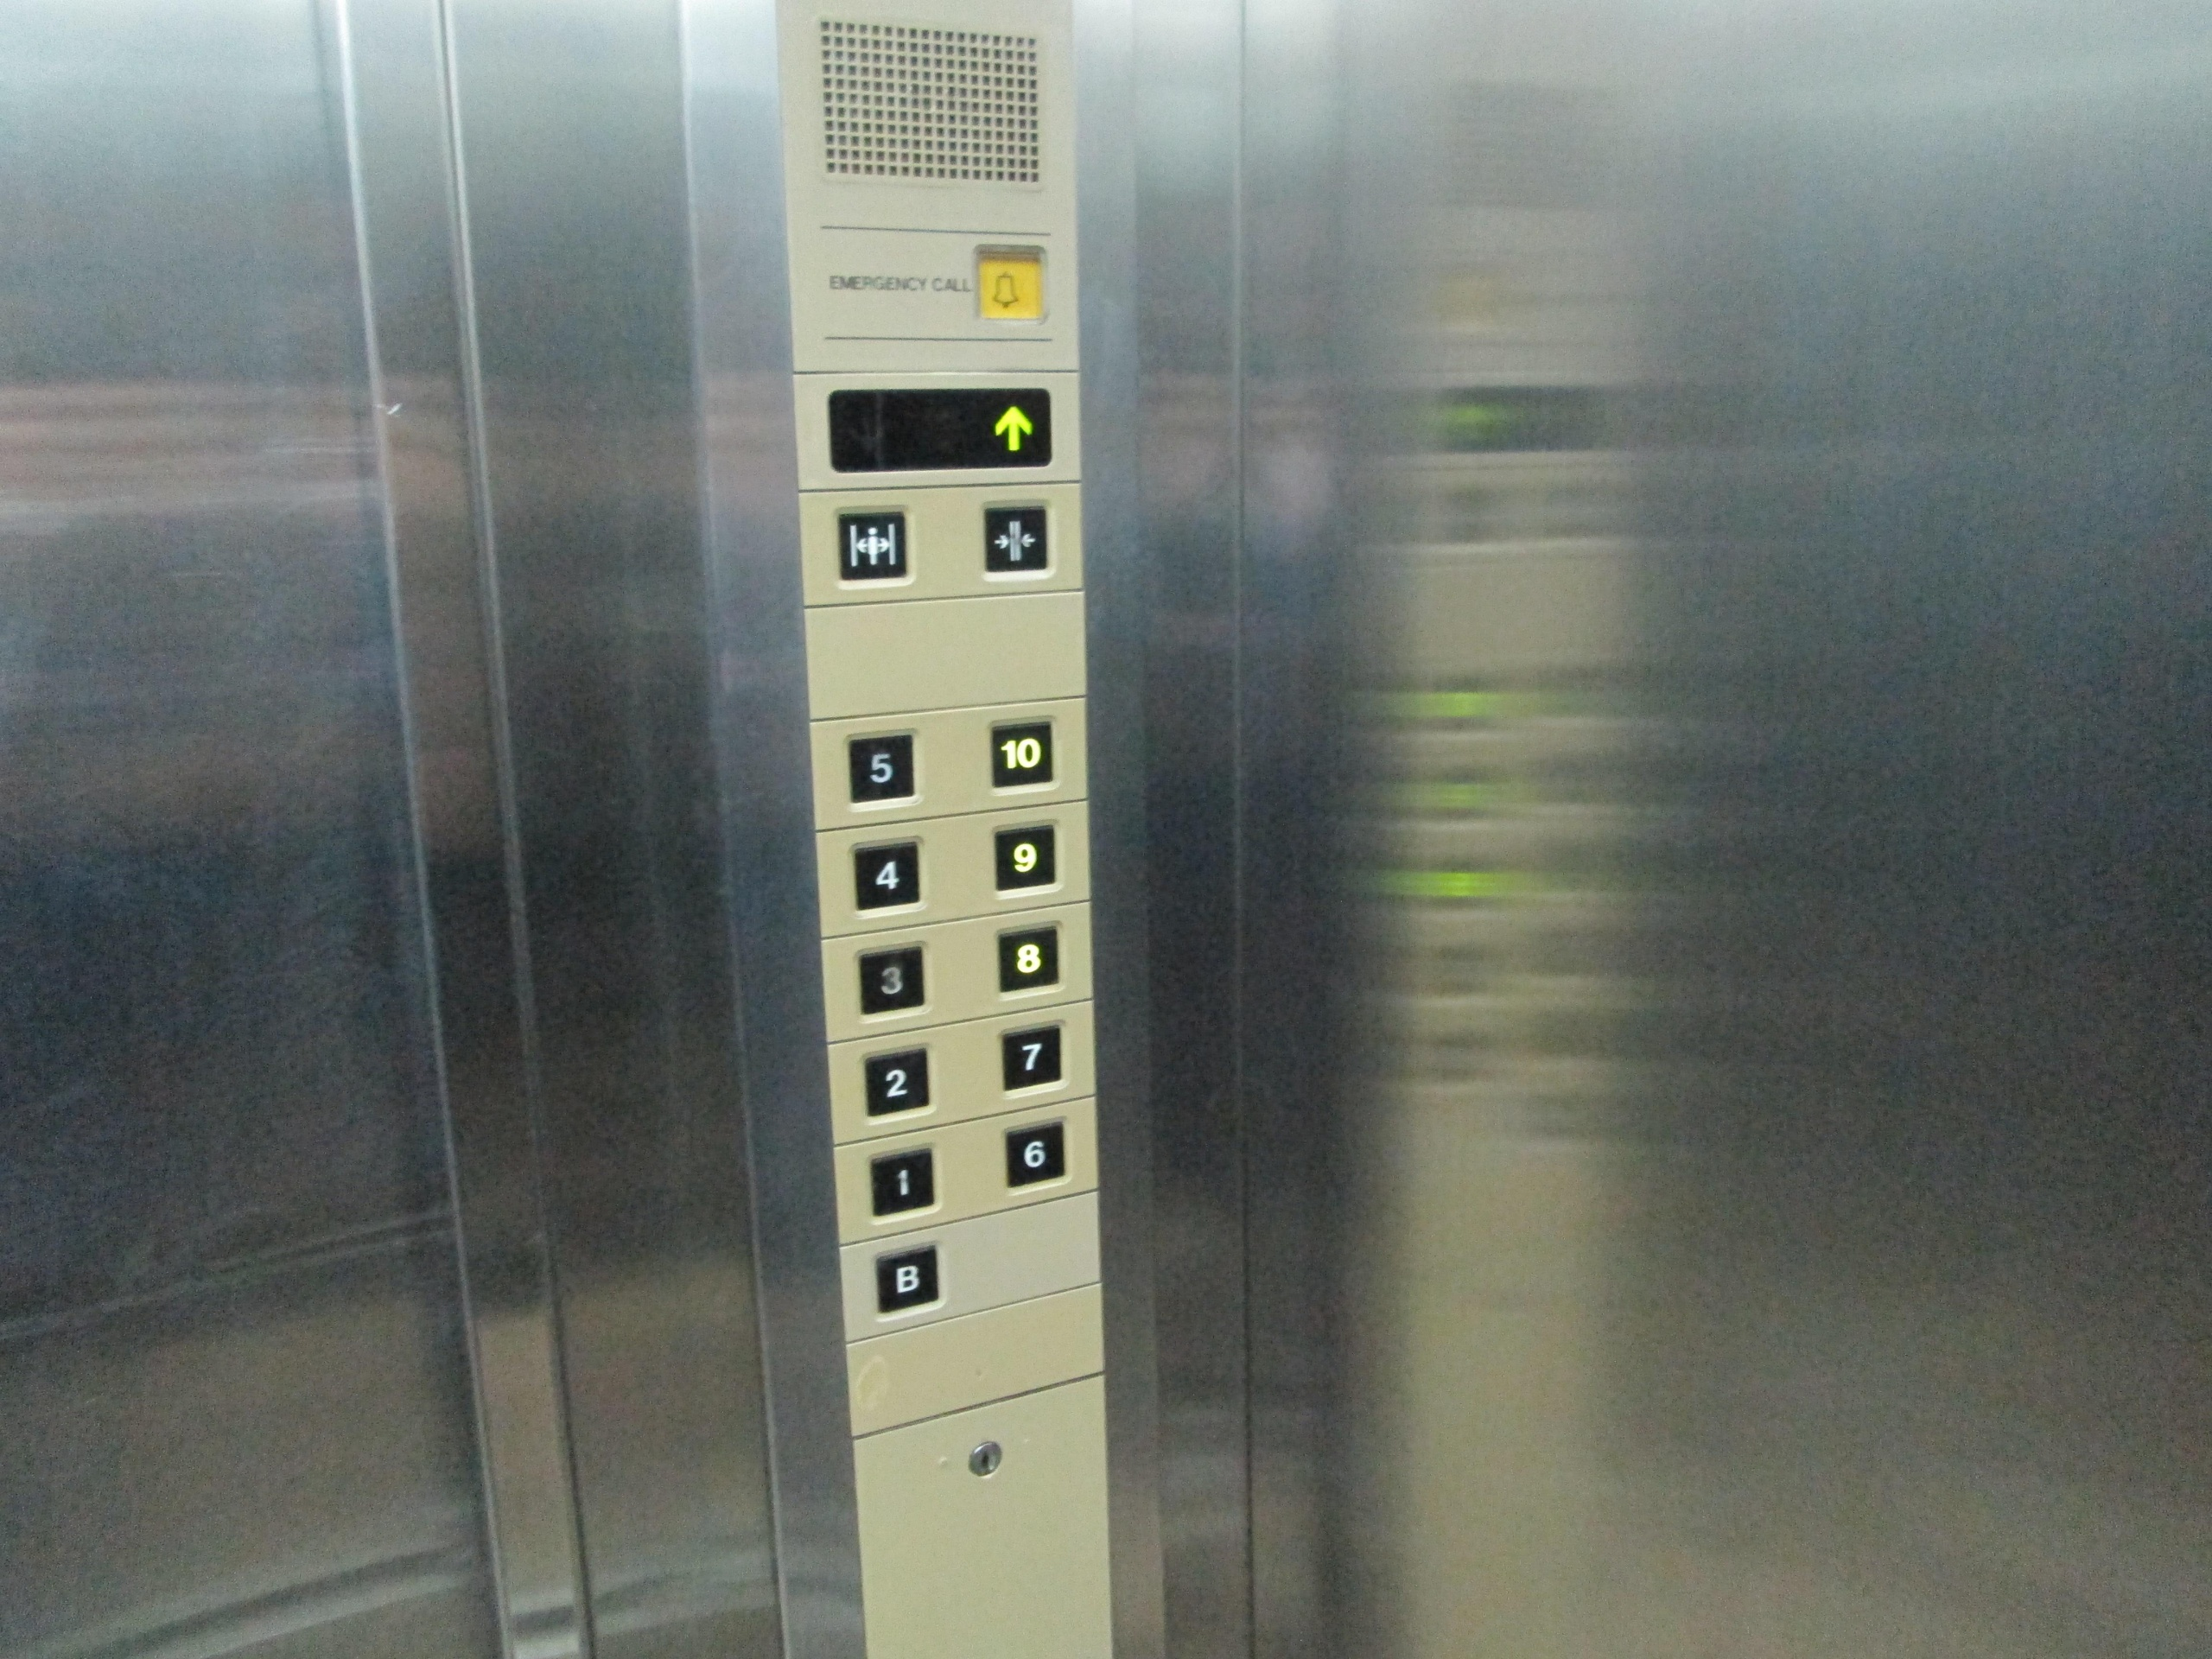1: (860, 1141, 948, 1229)
10: (986, 714, 1057, 796)
2: (859, 1042, 934, 1124)
3: (852, 939, 934, 1021)
4: (845, 835, 927, 918)
5: (841, 727, 923, 814)
6: (1000, 1115, 1071, 1195)
7: (995, 1018, 1062, 1096)
8: (991, 920, 1064, 999)
9: (988, 817, 1061, 899)
B: (867, 1239, 946, 1321)
alarm: (974, 242, 1050, 328)
close: (981, 498, 1054, 580)
keyhole: (967, 1439, 1003, 1478)
led: (827, 387, 1054, 472)
open: (831, 505, 918, 591)
